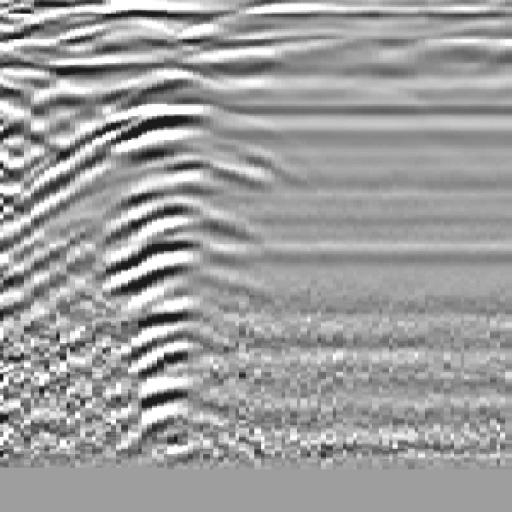metalic: (44, 86, 294, 412)
